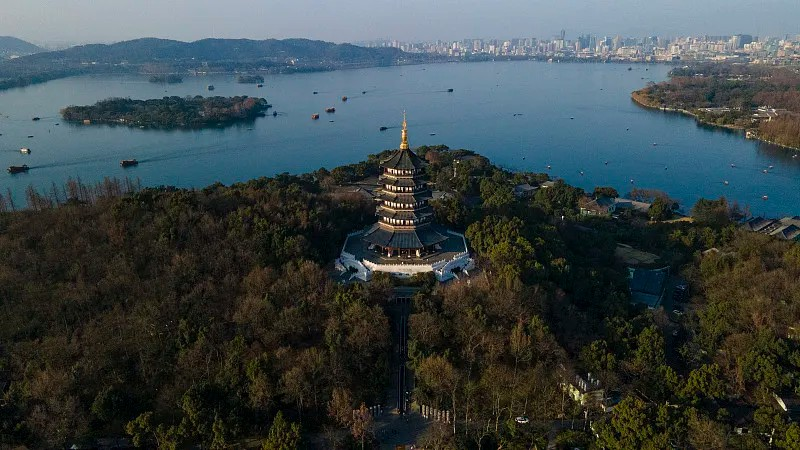Leifeng: (361, 109, 454, 273)
